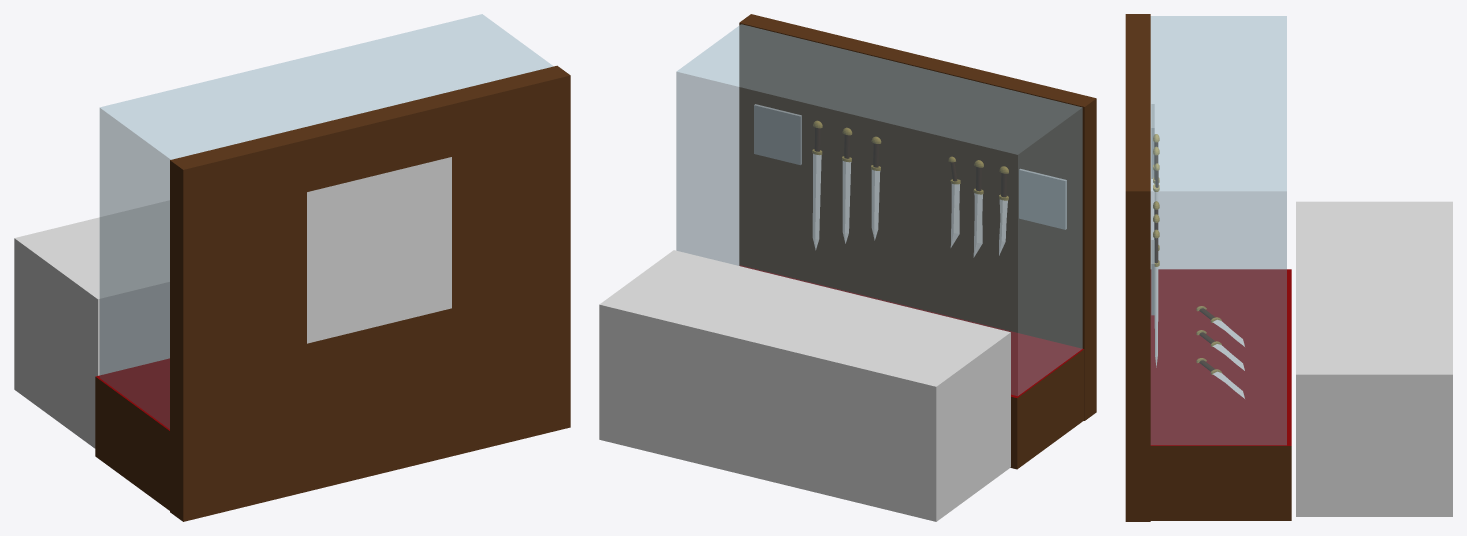
Rendered from montre_svaerd.gltf.
The picture shows the model from 3 angles, left to right: view 1: azimuth 30°, elevation 25°; view 2: azimuth 150°, elevation 25°; view 3: azimuth 270°, elevation 25°; orthographic projection. The views are drawn at different scales.
Visible parts, largest first — view 1: Cube.001, glass.001, front.zone, snap, Cube.006; view 2: glass.001, Cube.001, front.zone, Cube.006, Cube.004, Cube.005, Sword.017, Sword.016; view 3: glass.001, front.zone, Cube.006, Cube.001, Sword.017.
Part boxes in pixels (x1,y1,x2,y2): Cube.001: (170,65,570,521); glass.001: (99,14,553,428); front.zone: (14,200,169,448); snap: (307,157,451,343); Cube.006: (95,358,169,510); glass.001: (676,24,1082,395); Cube.001: (739,14,1096,420); front.zone: (599,250,1010,521); Cube.006: (739,265,1084,469); Cube.004: (1019,169,1066,229); Cube.005: (754,104,801,164); Sword.017: (812,154,821,249); Sword.016: (842,161,851,243); glass.001: (1150,16,1286,445); front.zone: (1296,201,1452,516); Cube.006: (1150,269,1291,520); Cube.001: (1125,14,1150,521); Sword.017: (1154,267,1158,367).
Bounding box in the file's own units: 5.35 × 4.65 × 4.18.
